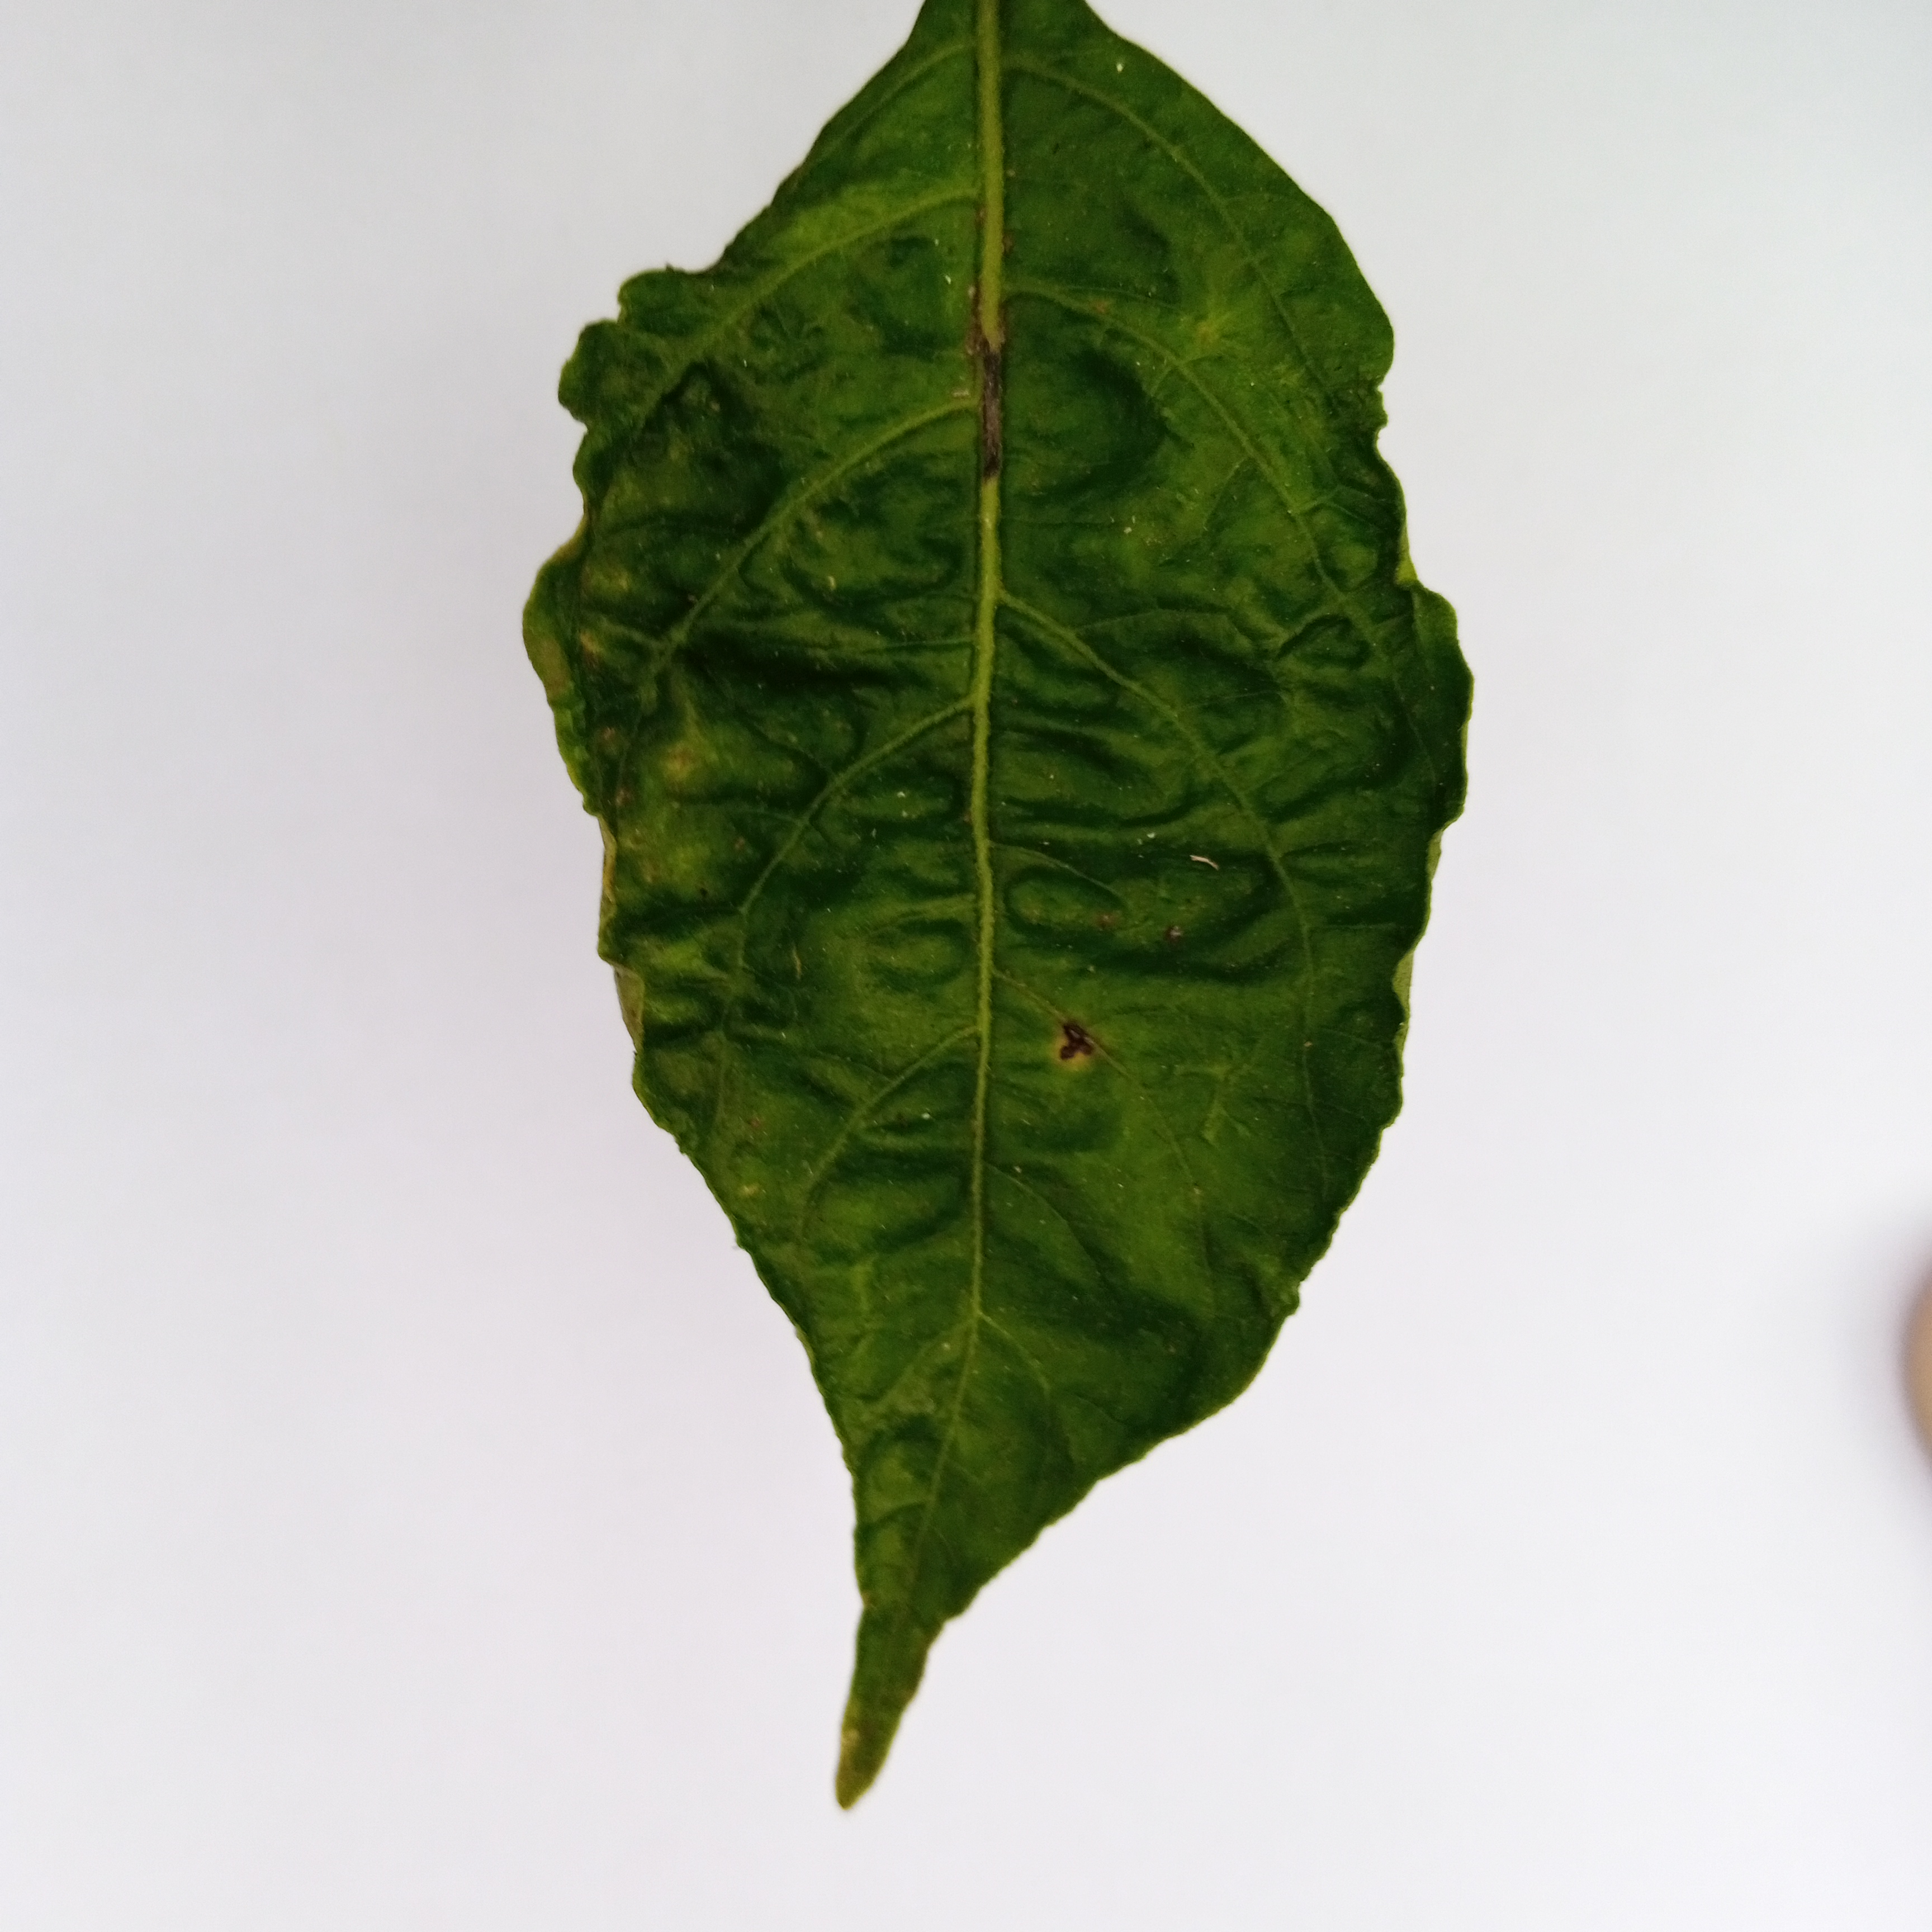Leaf: (382, 12, 1569, 1932)
